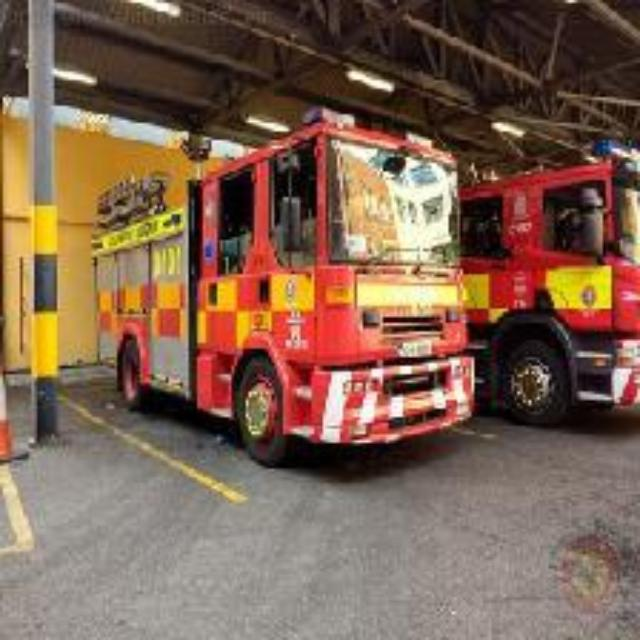emergency: (68, 116, 484, 454), (428, 154, 632, 410)
